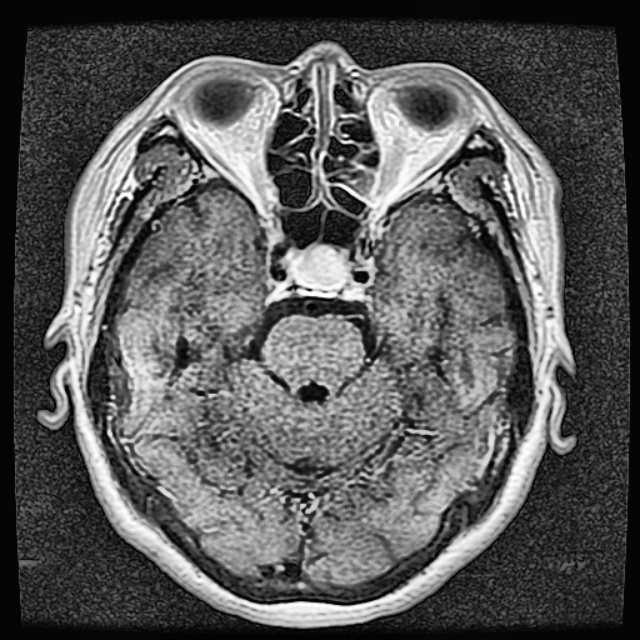Pituitary: (290, 244, 348, 289)
